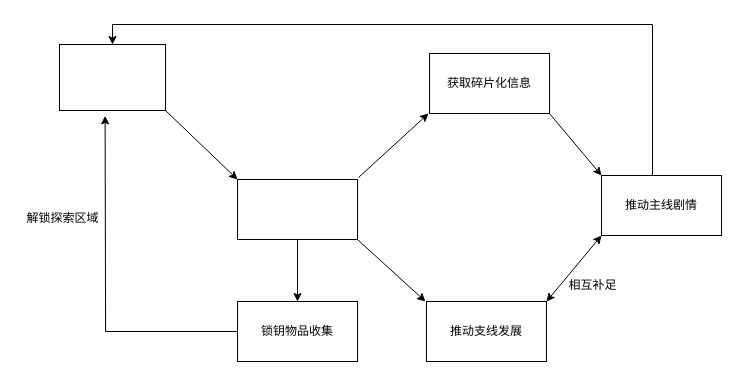
Image size: 739x379. Some labels were removed from this diagram. The centre of each missing label's shape, as x and y in pixels:
探索地图: the point at 112,77
物品收集: the point at 297,209
